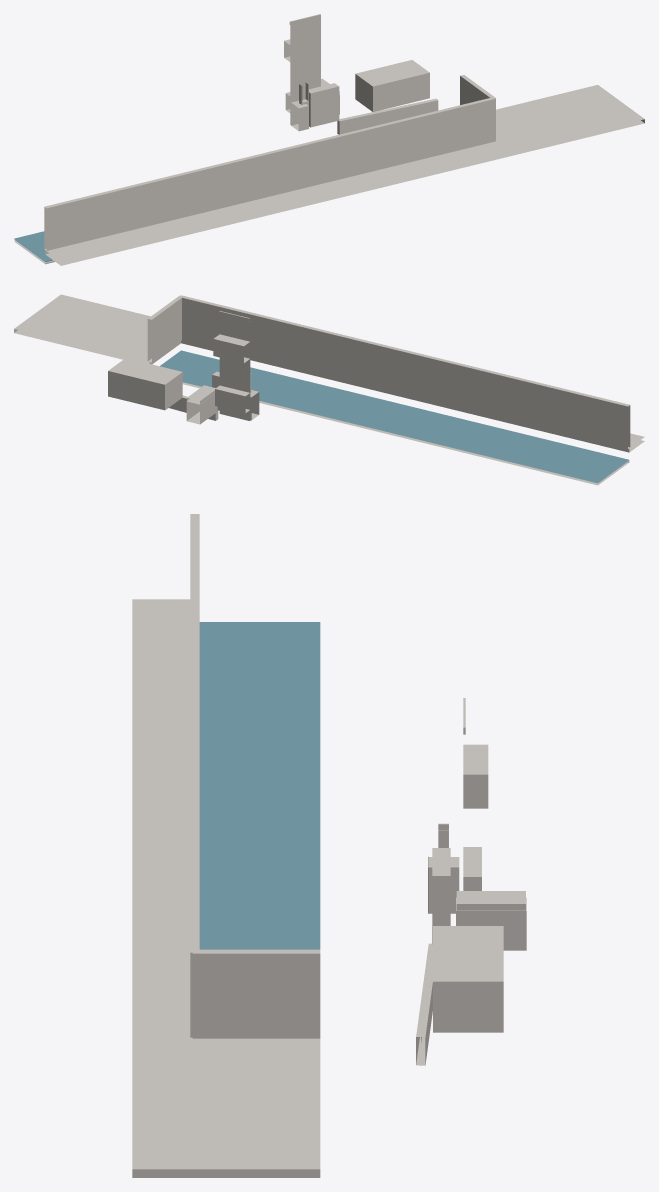
Rendered from tile_6_0.glb.
The picture shows the model from 3 angles, top to bottom: view 1: azimuth 30°, elevation 25°; view 2: azimuth 150°, elevation 25°; view 3: azimuth 270°, elevation 25°; orthographic projection. The views are drawn at different scales.
Visible parts, largest first — view 1: t6_0_c21_0_-1_concrete, t6_0_hlod, t6_0_c22_0_-1_concrete, t6_0-occonly, t6_0_c22_0_-1_water; view 2: t6_0_c21_0_-1_concrete, t6_0_c22_0_-1_water, t6_0_hlod, t6_0_c22_0_-1_concrete, t6_0_c21_0_-1_water, t6_0-occonly; view 3: t6_0_c21_0_-1_concrete, t6_0_c22_0_-1_water, t6_0_c22_0_-1_concrete, t6_0_hlod, t6_0-occonly, t6_0_c21_0_-1_water.
Part boxes in pixels (box(x1,y1,x2,y2)): t6_0_c21_0_-1_concrete: box(38, 92, 644, 265); t6_0_hlod: box(284, 14, 438, 134); t6_0_c22_0_-1_concrete: box(14, 75, 620, 258); t6_0-occonly: box(339, 60, 429, 114); t6_0_c22_0_-1_water: box(14, 231, 45, 256); t6_0_c21_0_-1_concrete: box(38, 294, 644, 468); t6_0_c22_0_-1_water: box(160, 356, 620, 483); t6_0_hlod: box(108, 311, 259, 424); t6_0_c22_0_-1_concrete: box(14, 301, 620, 485); t6_0_c21_0_-1_water: box(173, 350, 629, 465); t6_0-occonly: box(108, 358, 217, 424); t6_0_c21_0_-1_concrete: box(132, 514, 226, 1177); t6_0_c22_0_-1_water: box(226, 622, 320, 949); t6_0_c22_0_-1_concrete: box(226, 949, 320, 1177); t6_0_hlod: box(416, 698, 526, 1065); t6_0-occonly: box(433, 897, 526, 1032); t6_0_c21_0_-1_water: box(199, 622, 226, 949).
Size of what is drawn, in the model's own units: 860 by 165 by 252.
